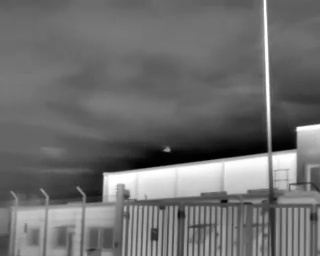HELICOPTER: (161, 143, 175, 156)
